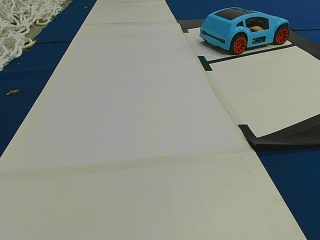car: (199, 9, 290, 53)
